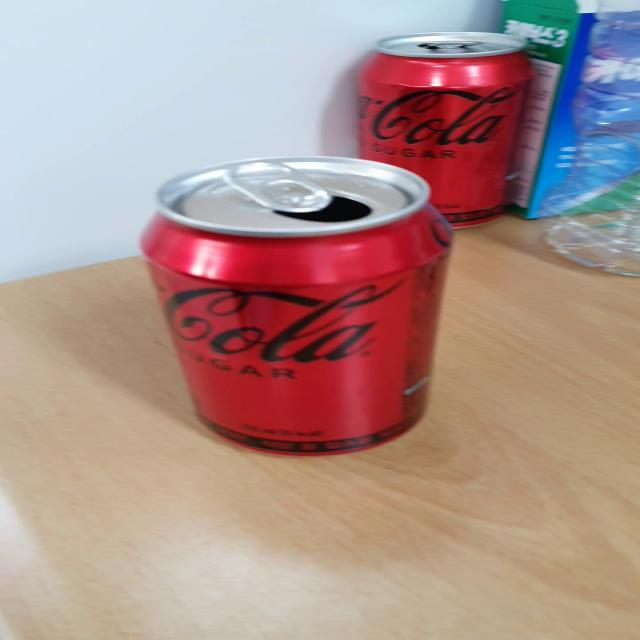coca-cola: (114, 152, 482, 468), (340, 27, 552, 254)
